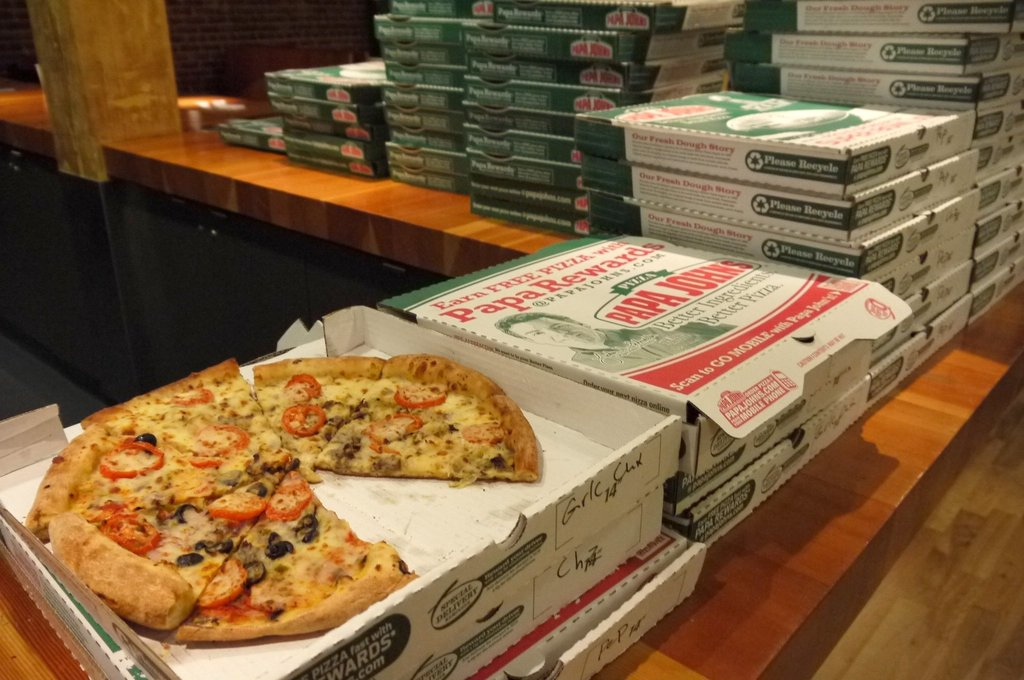Pizza: (23, 359, 542, 629)
